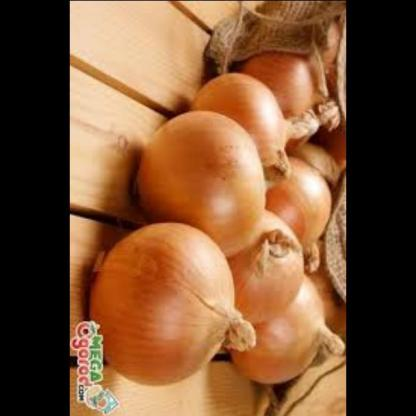onion: (90, 218, 247, 392), (138, 108, 271, 268), (219, 211, 308, 331), (232, 278, 330, 386), (199, 70, 298, 168), (249, 45, 331, 145), (259, 153, 336, 255)
